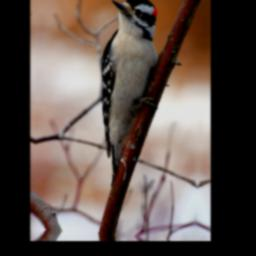Woodpecker: (95, 0, 165, 191)
